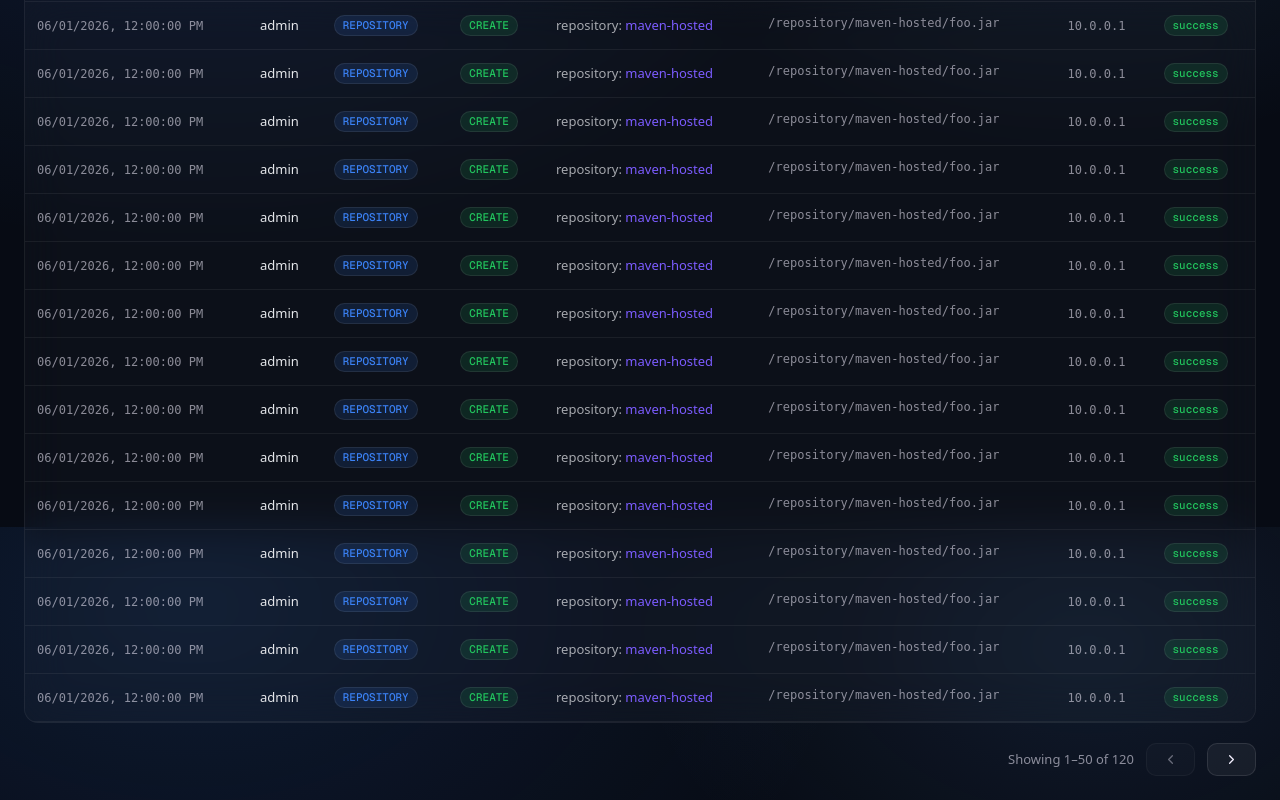
Test case: AuditPage › paginates when total exceeds page size
The width and height of the screenshot is (1280, 800).
(page scrolled)
Expected: the text "Showing 1–50 of 120" is shown, left=1008, top=750, right=1134, bottom=769
Click the 2nd button: (1232, 760) left=1207, top=743, right=1256, bottom=776
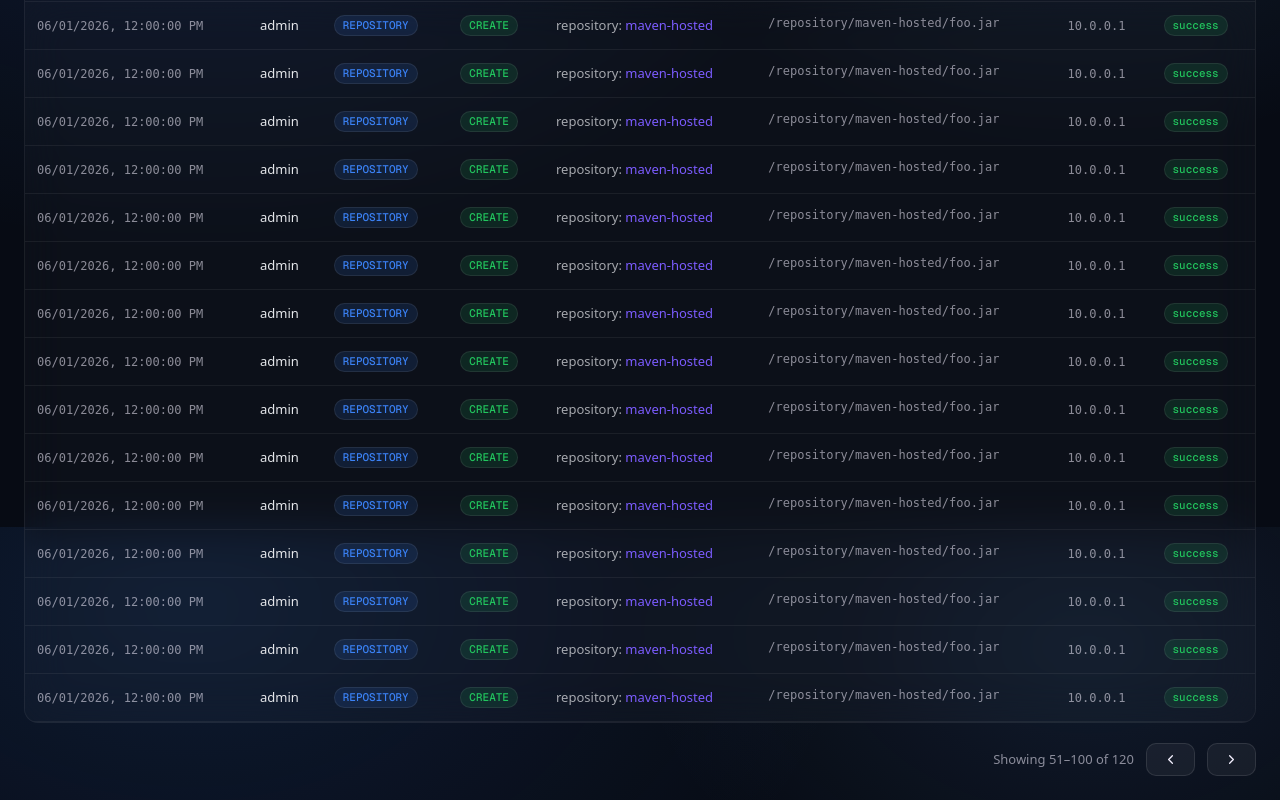
Expected: the text "Showing 51–100 of 120" is shown, left=993, top=750, right=1134, bottom=769
